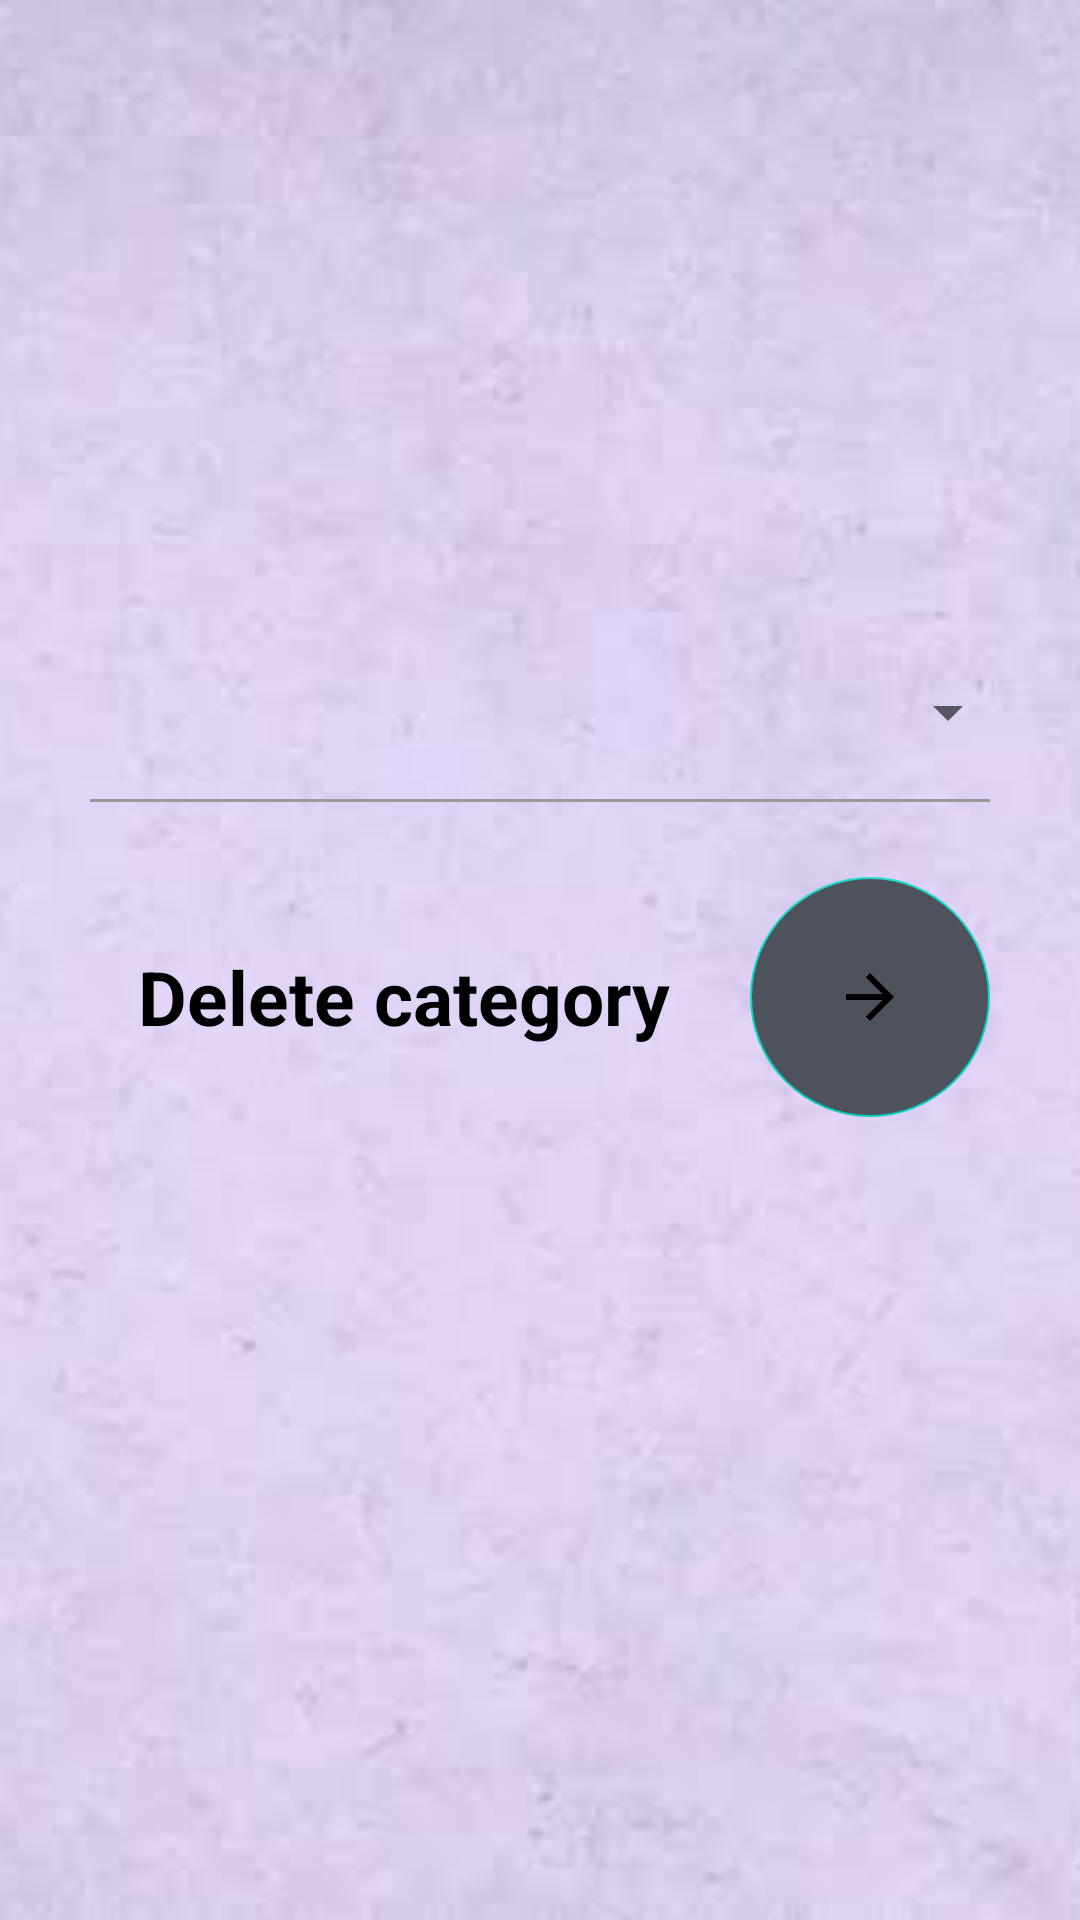

Where icons sit on this 1080×1920 app screen, as (x1, y1, x2, y2):
arrow forward: (750, 877, 990, 1117)
